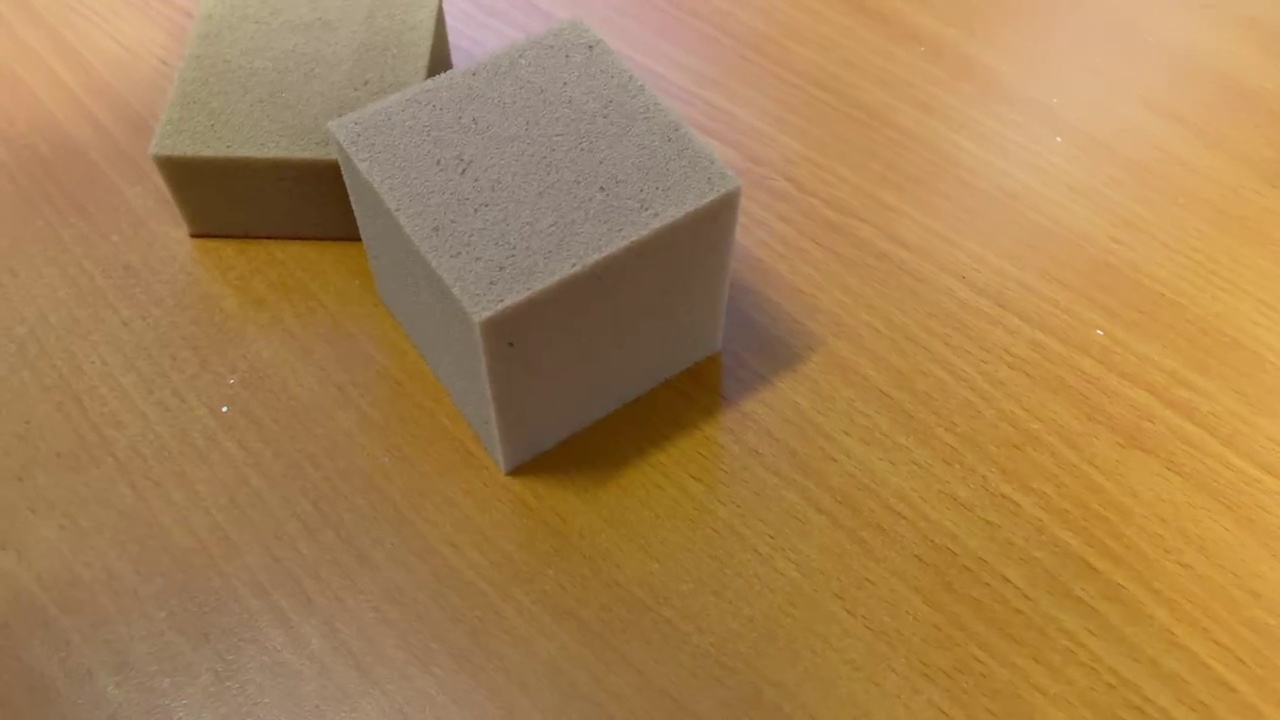Cube: (315, 12, 746, 480)
Cube_short: (144, 1, 459, 245)
